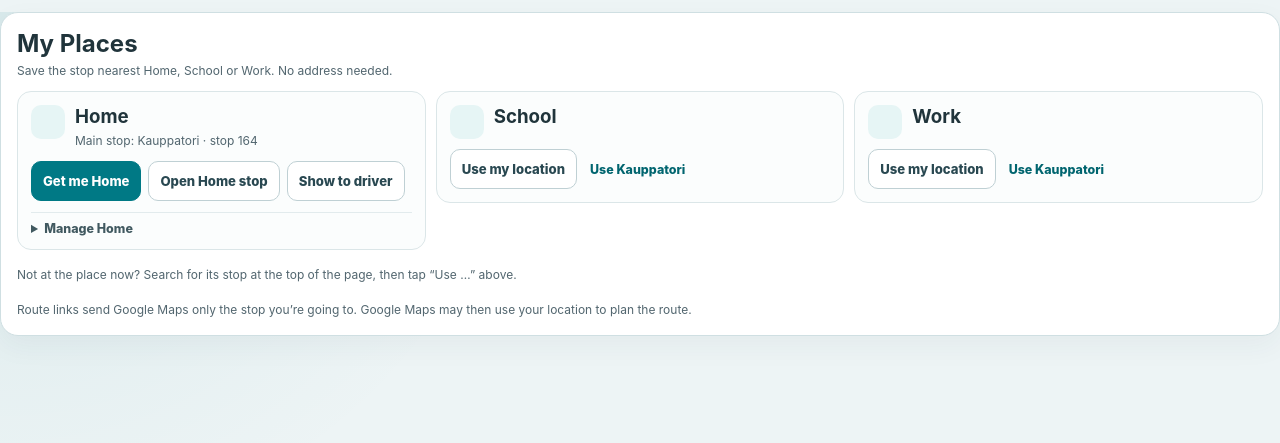
Test: warns that sharing a place can reveal its general area
Click the heading "Manage Home" at (89, 228), box [44,221,133,236]
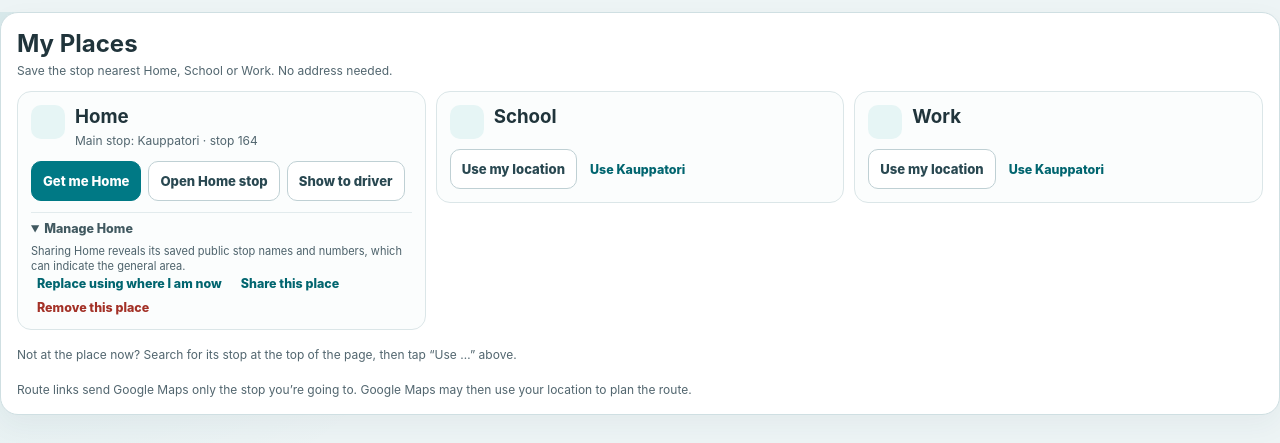
Expected: the text "Sharing Home reveals its saved public stop names and numbers" is shown, [31,244,402,273]
